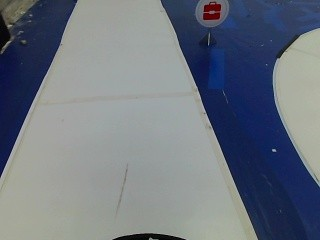company: (192, 0, 229, 28)
